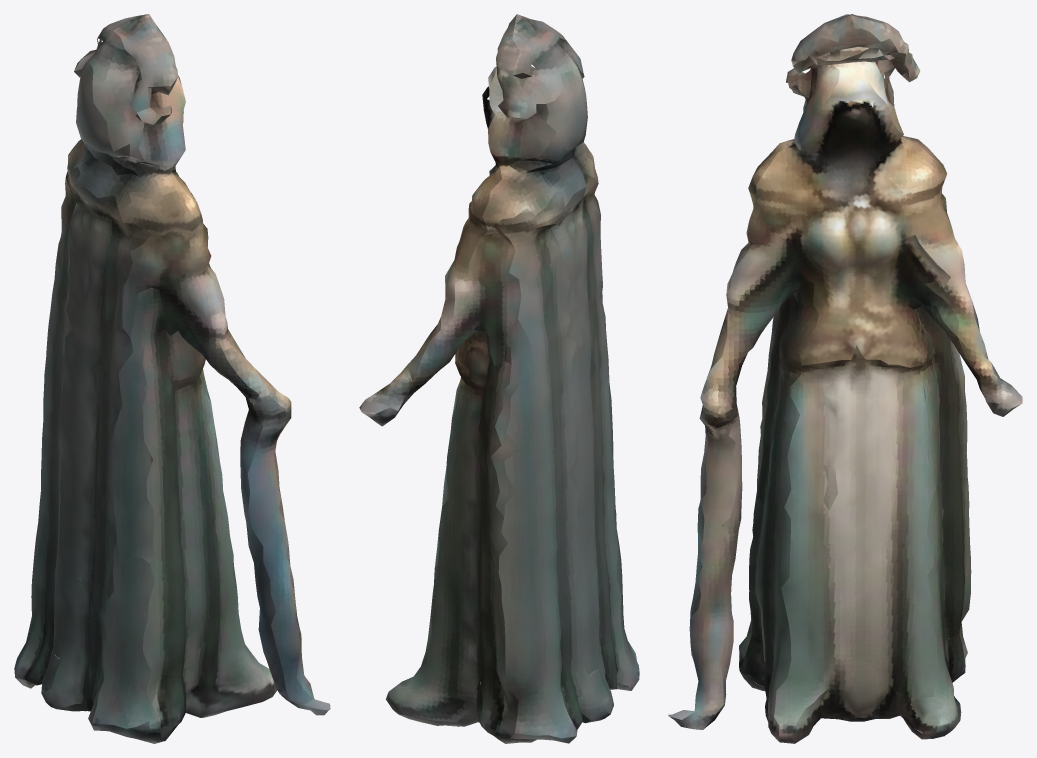
The model's file is hallow.glb.
3 views of the same model, side by side, from view 1: azimuth 30°, elevation 25°; view 2: azimuth 150°, elevation 25°; view 3: azimuth 270°, elevation 25° (orthographic).
Visible parts, largest first — view 1: hallow; view 2: hallow; view 3: hallow.
Part boxes in pixels (left/top/right/bottom): hallow: left=14, top=14, right=330, bottom=743; hallow: left=359, top=14, right=639, bottom=743; hallow: left=668, top=14, right=1022, bottom=743.
Size of the model in its own units: 0.6592 by 2.2 by 1.02.
1 material, 1 textured.
